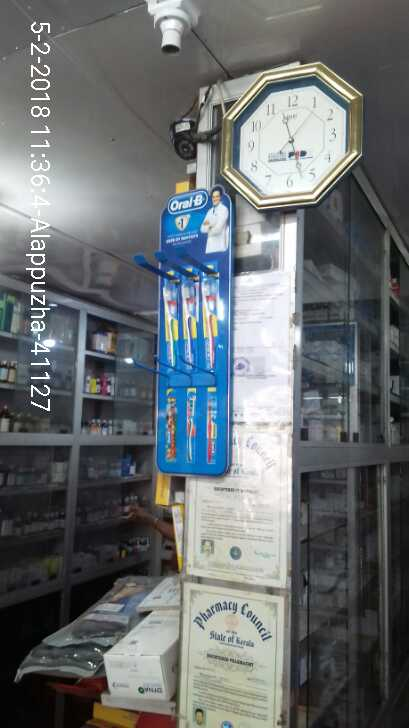oralb: (156, 280, 181, 371), (199, 268, 221, 369), (177, 273, 199, 370)
